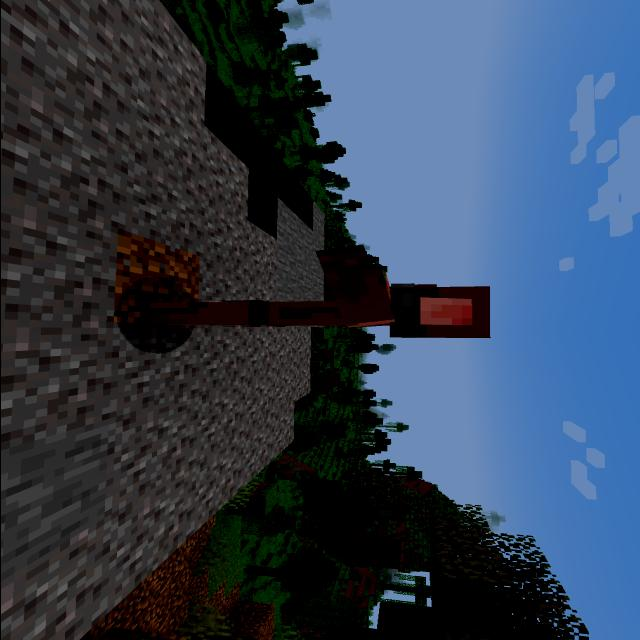Zombified Piglin: (128, 238, 510, 353)
